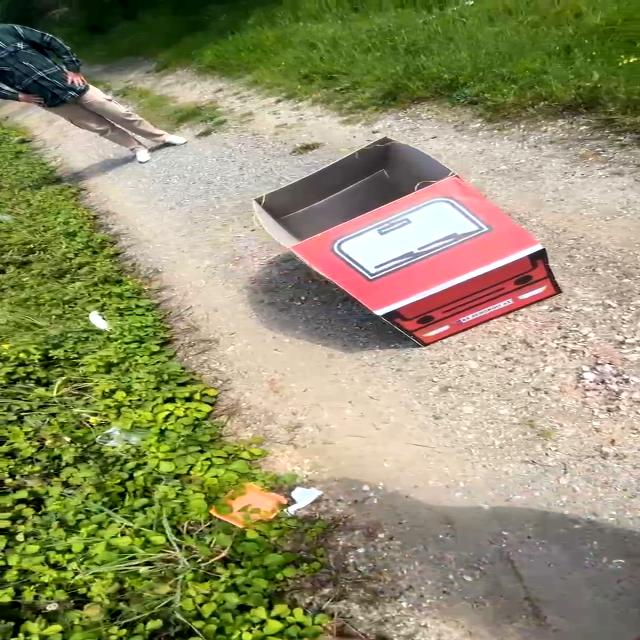red_car: (232, 108, 567, 352)
